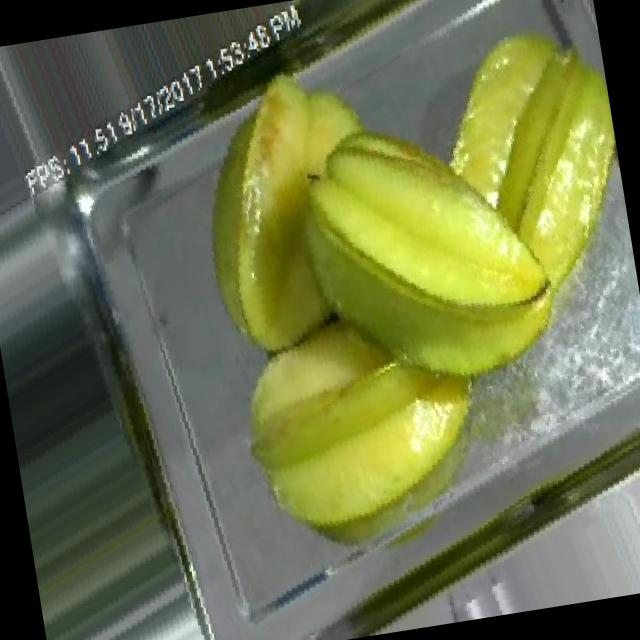fruit: (173, 9, 624, 484), (181, 258, 544, 584), (123, 32, 433, 408), (385, 0, 640, 359)
